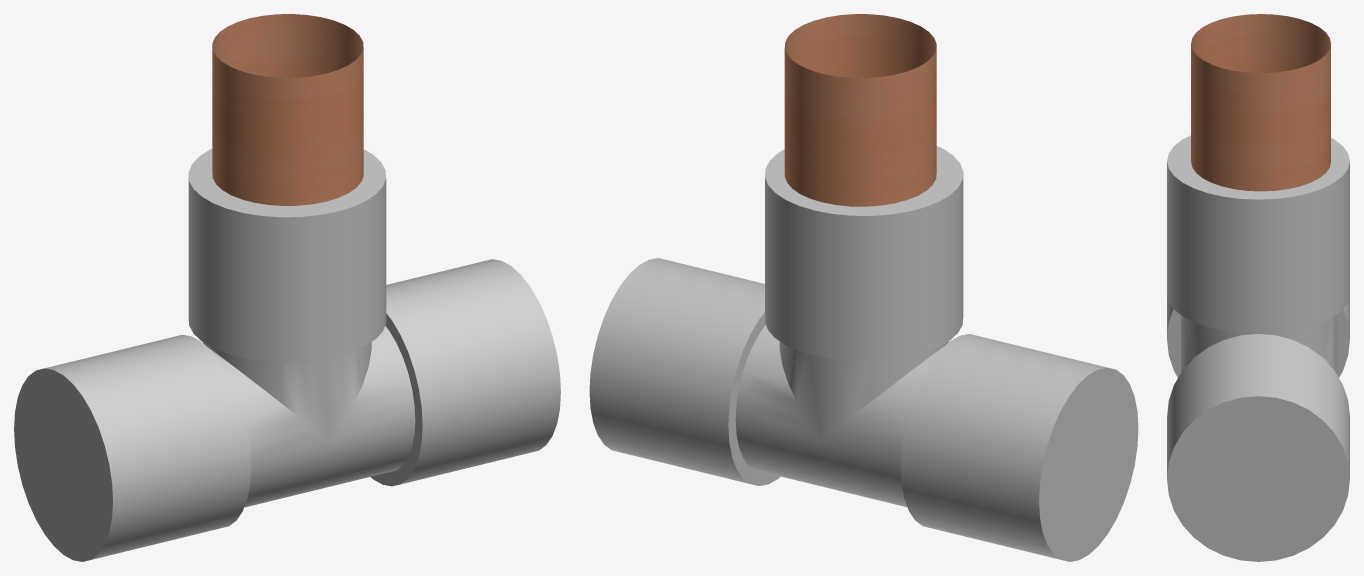
The model's file is PI Indicator Pipe.fbx.
3 views of the same model, side by side, from view 1: azimuth 30°, elevation 25°; view 2: azimuth 150°, elevation 25°; view 3: azimuth 270°, elevation 25° (orthographic). The views are drawn at different scales.
Visible parts, largest first — view 1: Tee.009, Pipe 28.006; view 2: Tee.009, Pipe 28.006; view 3: Tee.009, Pipe 28.006.
Part boxes in pixels (<box>): Tee.009: <box>14,149,560,561</box>; Pipe 28.006: <box>212,14,363,205</box>; Tee.009: <box>589,146,1138,561</box>; Pipe 28.006: <box>784,14,936,206</box>; Tee.009: <box>1167,135,1349,561</box>; Pipe 28.006: <box>1191,14,1330,191</box>.
Bounding box in the file's own units: 5.64 × 5.45 × 2.16.
